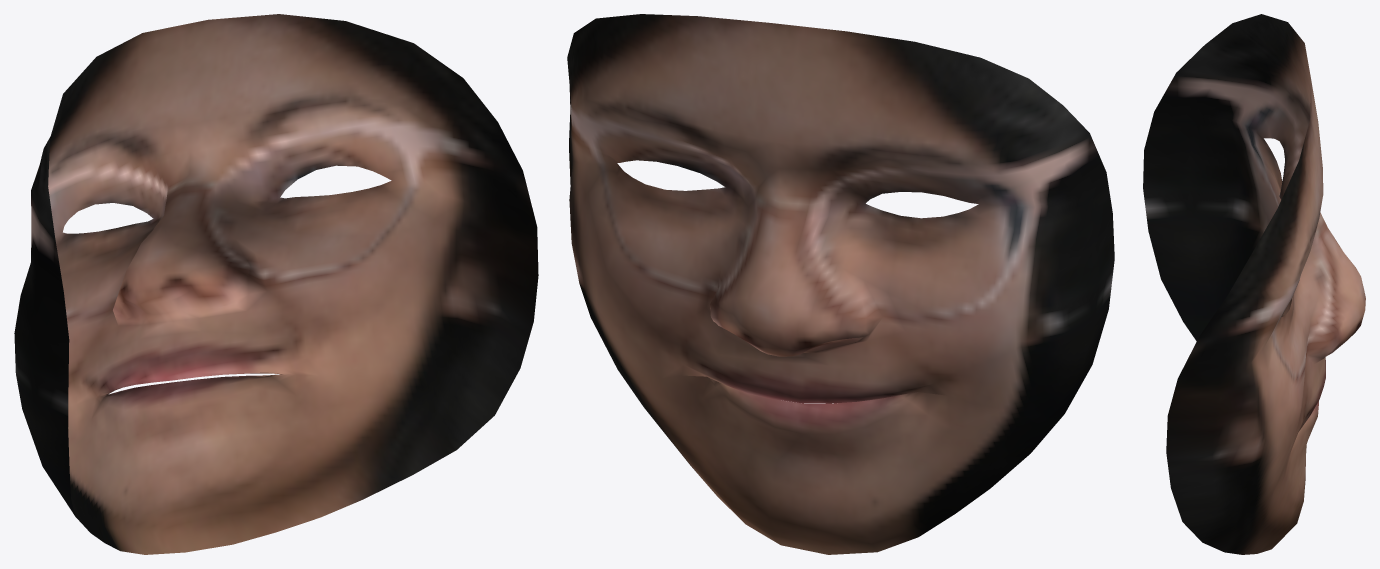
Rendered from face-scan2-D5GKN-WT.glb.
The picture shows the model from 3 angles, left to right: view 1: azimuth 30°, elevation 25°; view 2: azimuth 150°, elevation 25°; view 3: azimuth 270°, elevation 25°; orthographic projection. The views are drawn at different scales.
Parts seen in each view (by area): view 1: FaceScan; view 2: FaceScan; view 3: FaceScan.
Boxes of the visible parts, x1=… form: FaceScan: x1=14, y1=14, x2=538, y2=554; FaceScan: x1=567, y1=14, x2=1114, y2=554; FaceScan: x1=1143, y1=14, x2=1365, y2=554.
Bounding box in the file's own units: 14 × 14 × 6.12.
1 material, 1 textured.
